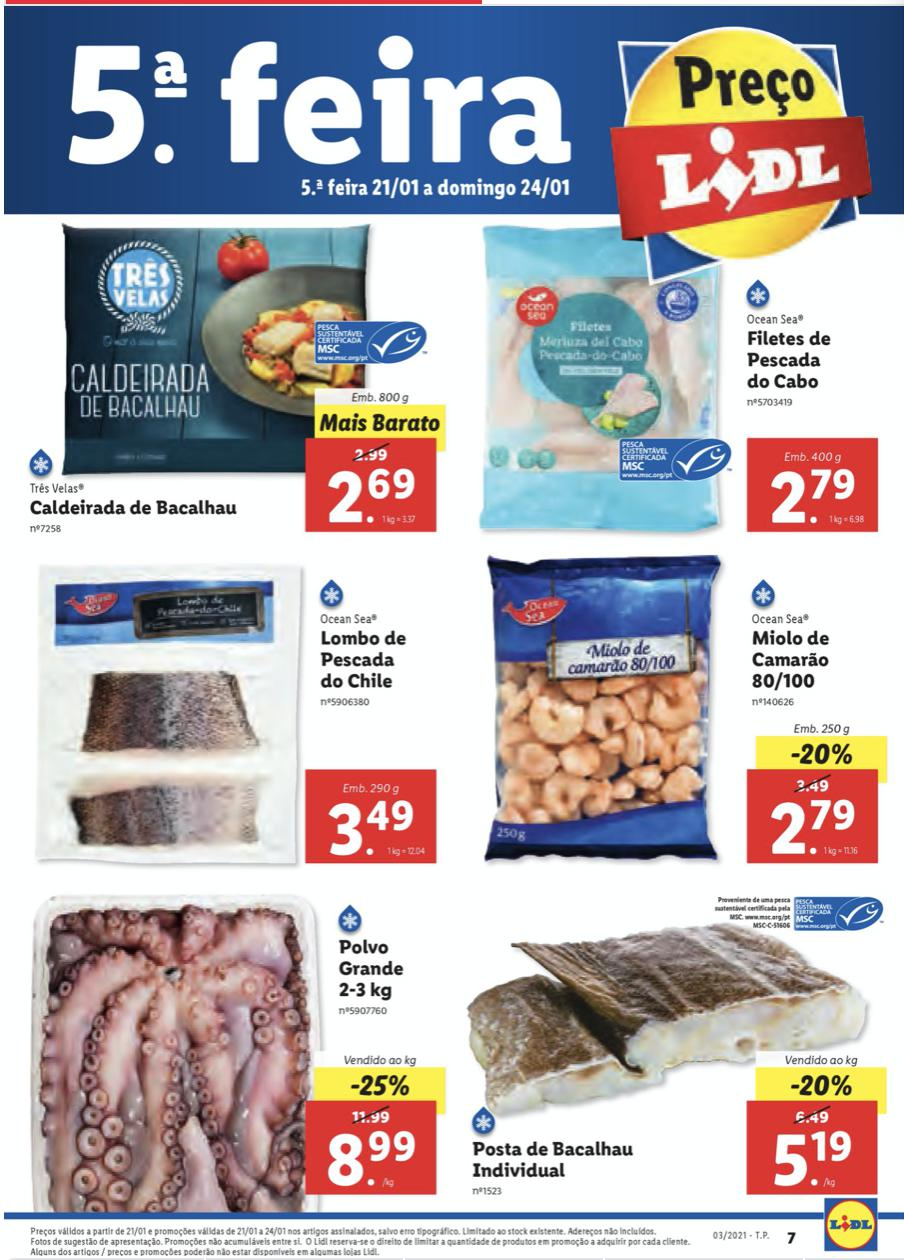name: (319, 627, 416, 693), (745, 323, 833, 393), (330, 932, 414, 1004), (25, 493, 244, 520), (745, 623, 831, 691)
price: (762, 446, 873, 534), (323, 779, 433, 862), (767, 788, 869, 863), (327, 463, 427, 537), (322, 1123, 423, 1195), (770, 1126, 861, 1195)
product: (441, 543, 898, 885), (12, 882, 462, 1218), (17, 218, 456, 551), (441, 885, 900, 1201), (9, 562, 462, 882), (472, 220, 898, 543)
promotion: (787, 738, 858, 773), (342, 1066, 416, 1099), (787, 1071, 856, 1102)
